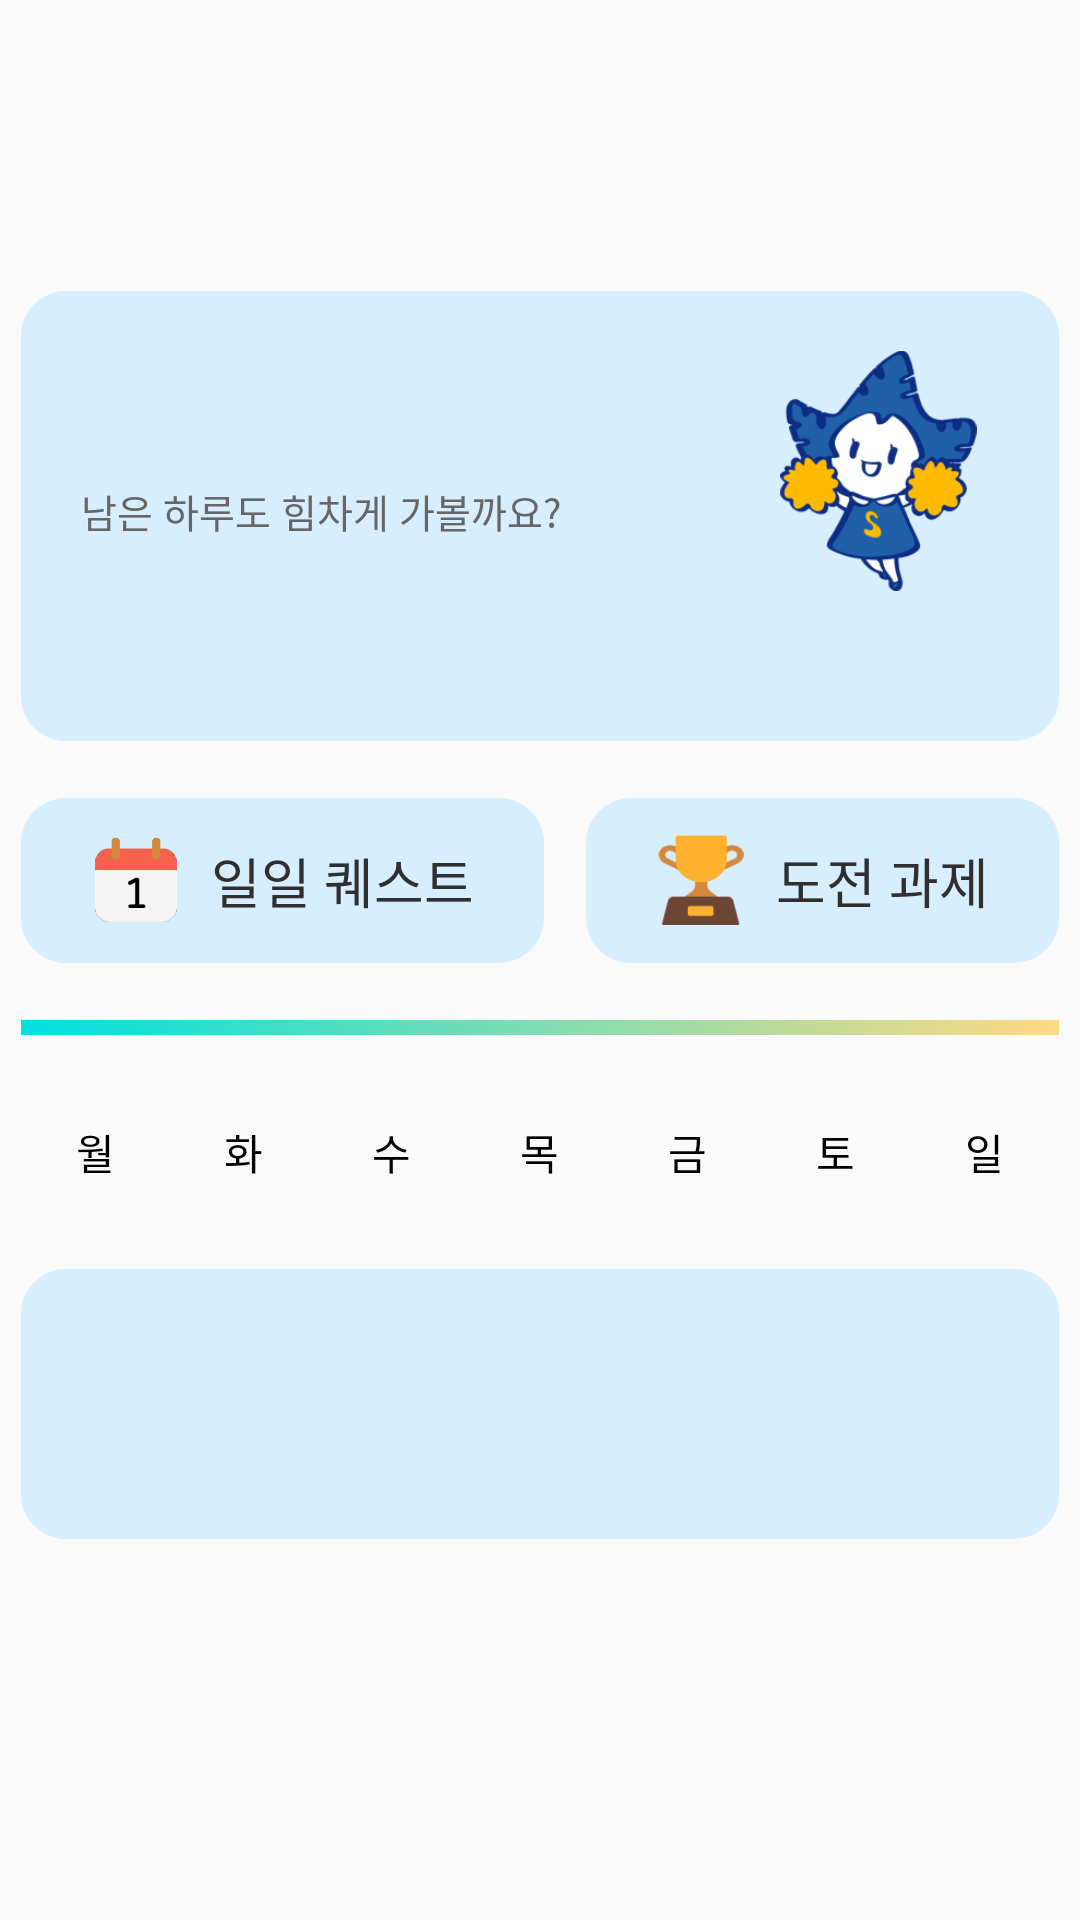

Where icons sit on this 1080 × 1920 app screen, as (x1, y1, x2, y2):
calendar: (95, 837, 177, 922)
cheersong: (780, 351, 977, 591)
trophy: (658, 835, 744, 925)
